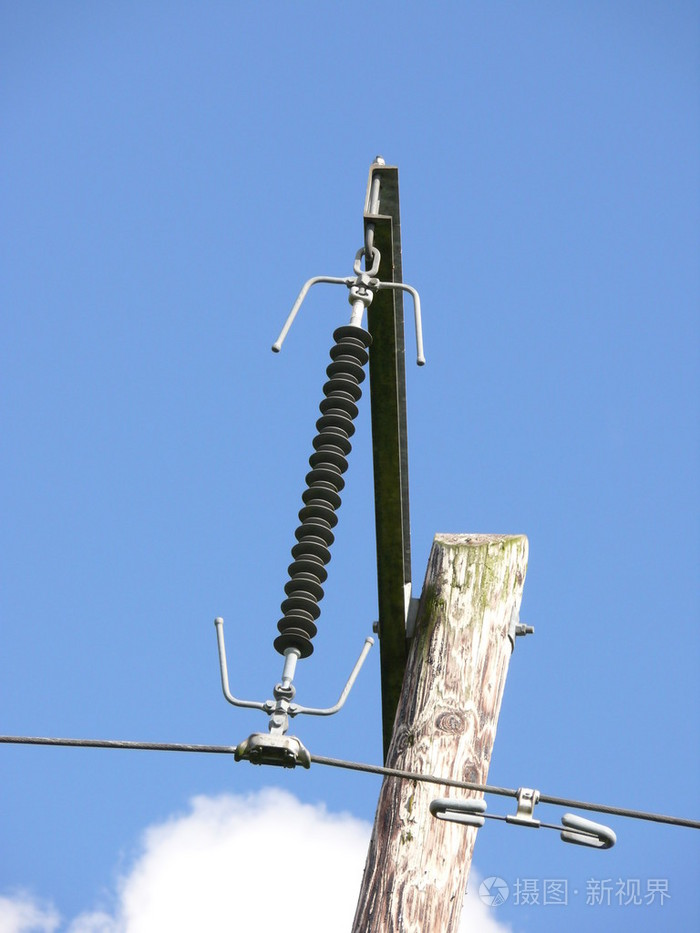insulator: (276, 325, 372, 654)
